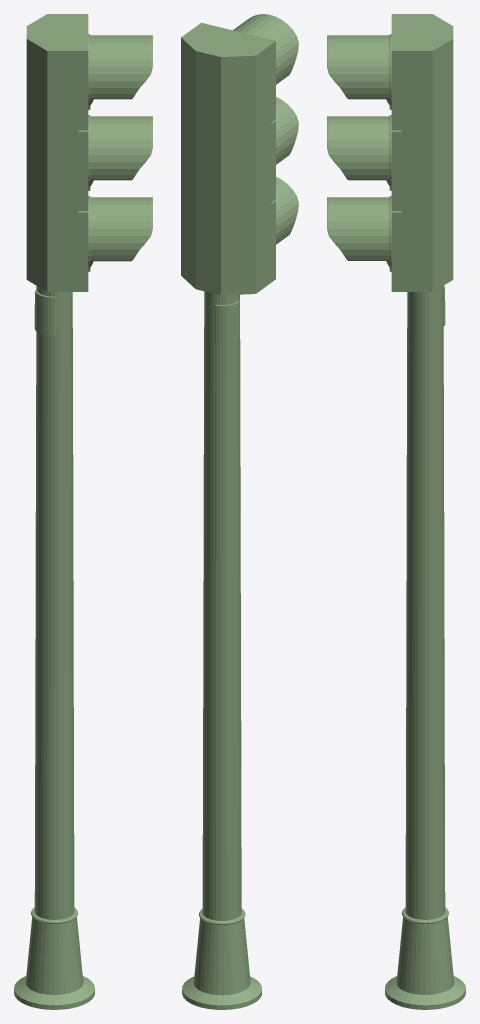
3 views of the same model, side by side, from view 1: azimuth 90°, elevation 25°; view 2: azimuth 150°, elevation 25°; view 3: azimuth 270°, elevation 25° (orthographic).
Visible parts, largest first — view 1: semaforo (SU 2017); view 2: semaforo (SU 2017); view 3: semaforo (SU 2017).
Boxes of the visible parts, x1,y1,x2,y2 form: semaforo (SU 2017): [14, 14, 152, 1009]; semaforo (SU 2017): [181, 14, 298, 1009]; semaforo (SU 2017): [327, 14, 465, 1009].
Bounding box in the file's own units: 0.2389 × 2.89 × 0.3793.
Materials: 4 (3 with a texture image).
